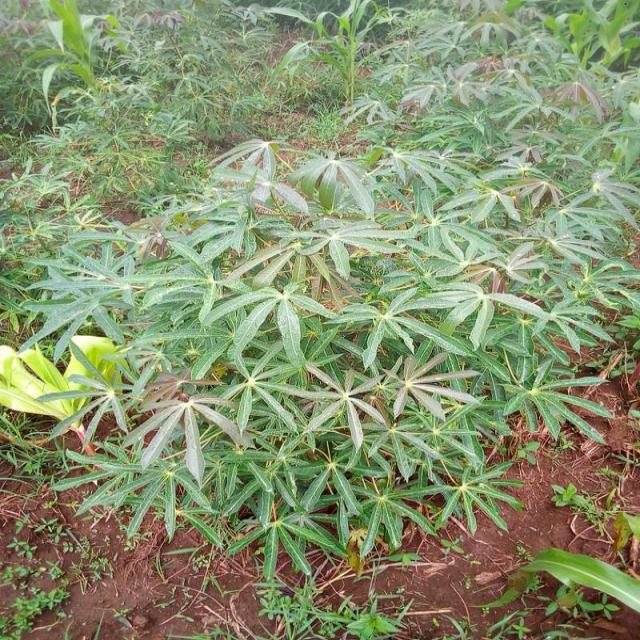cassava leaf: (3, 130, 637, 581)
